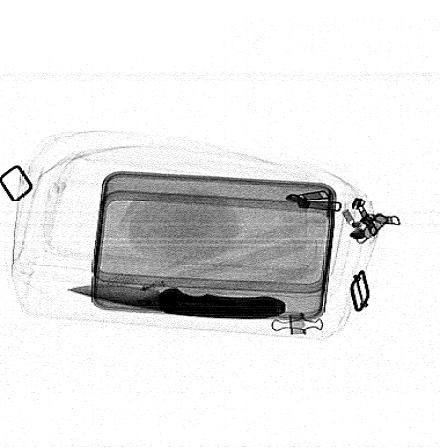Knife: (67, 283, 287, 319)
